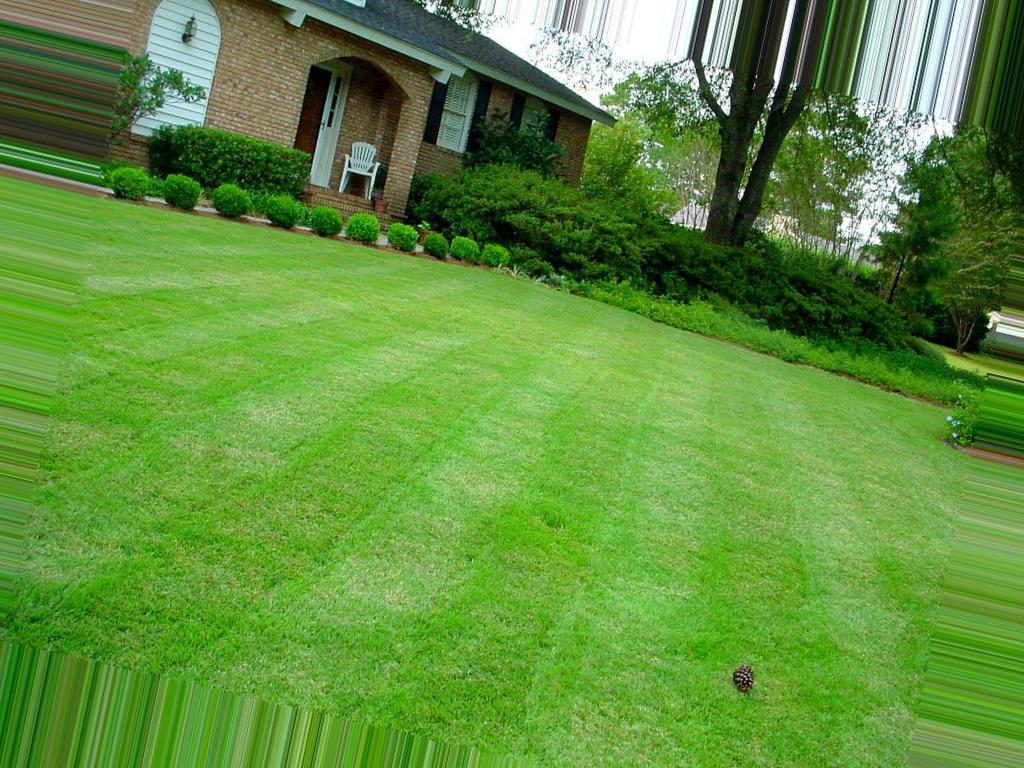patch: (290, 218, 313, 236)
